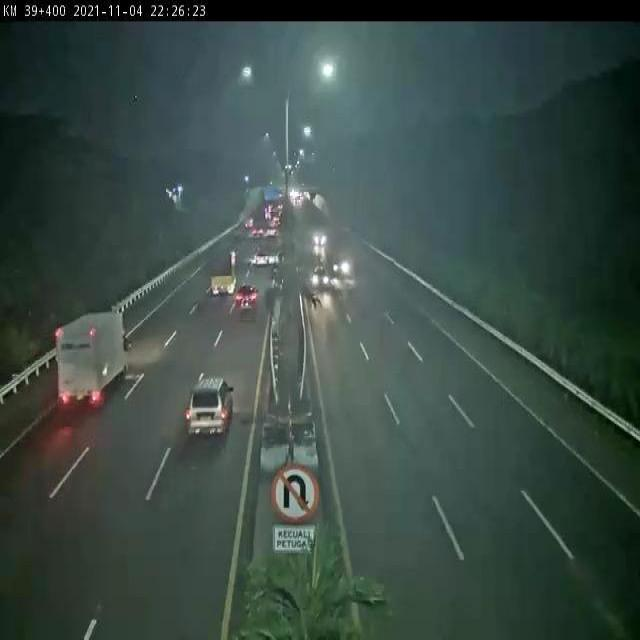car: (187, 378, 234, 434), (236, 284, 257, 308), (331, 256, 350, 276), (312, 266, 328, 286), (255, 249, 269, 264), (313, 231, 327, 244), (253, 225, 264, 238), (267, 227, 276, 236)
truck-l-: (56, 311, 130, 405)
truck-m-: (210, 252, 237, 291)
